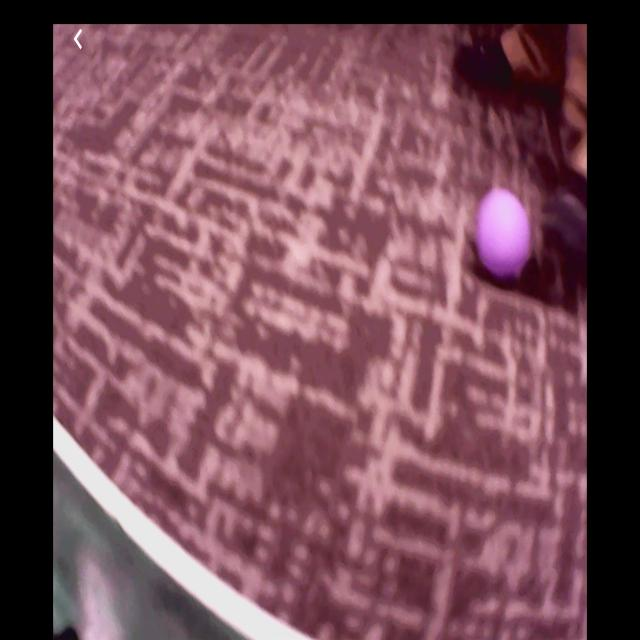ball: (479, 187, 532, 285)
